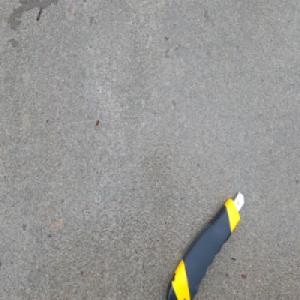Cutter: (163, 190, 244, 300)
